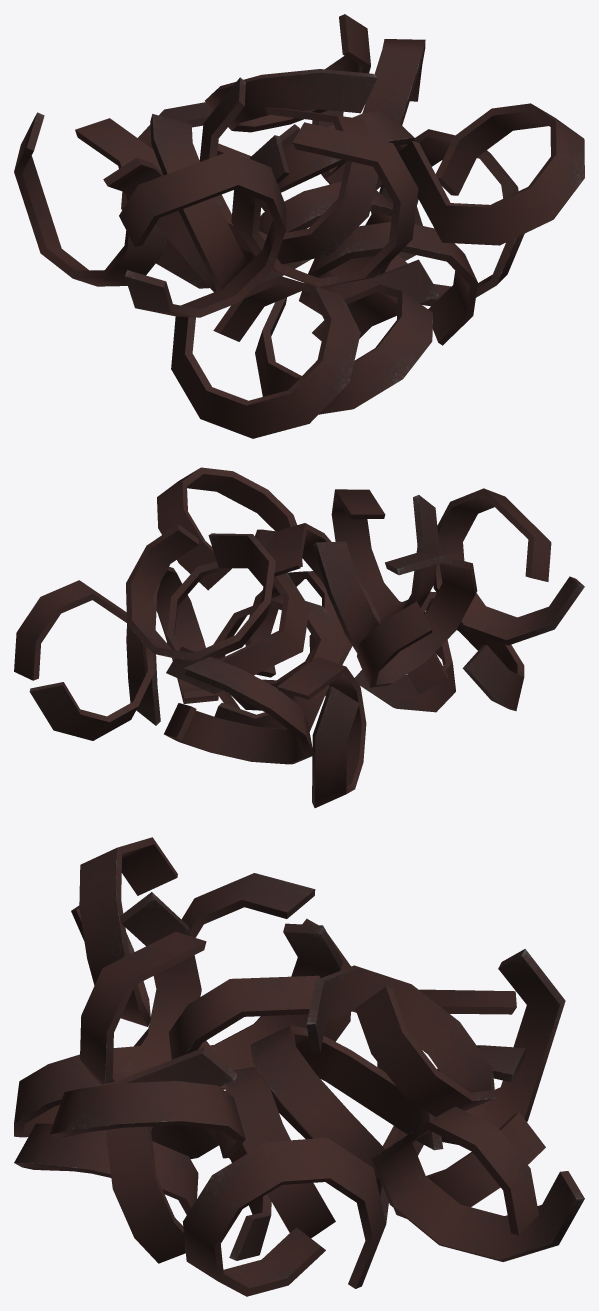
Rendered from trawa.glb.
3 views of the same model, one above another, from view 1: azimuth 30°, elevation 25°; view 2: azimuth 150°, elevation 25°; view 3: azimuth 270°, elevation 25° (orthographic). The views are drawn at different scales.
Visible parts, largest first — view 1: Helix138; view 2: Helix138; view 3: Helix138.
Boxes of the visible parts, x1,y1,x2,y2 form: Helix138: [14, 14, 584, 438]; Helix138: [14, 467, 584, 807]; Helix138: [14, 837, 584, 1296].
Bounding box in the file's own units: 147 × 77.36 × 137.
Materials: 1 (1 with a texture image).
